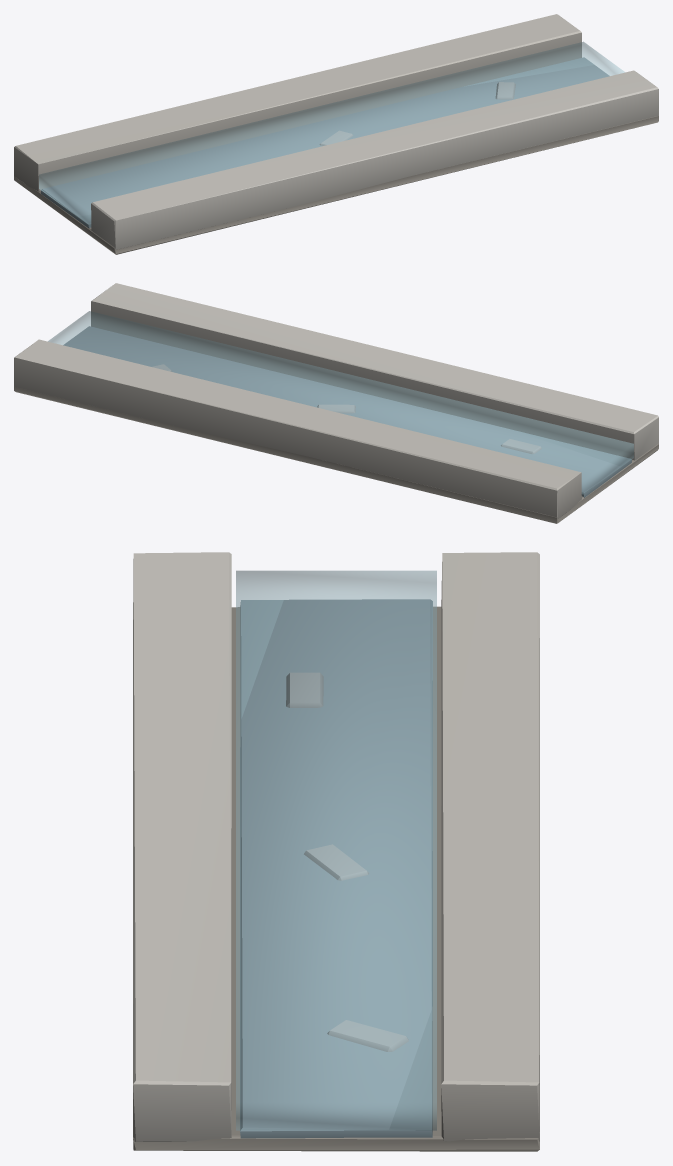
File: plaza_channel_low.glb
The picture shows the model from 3 angles, top to bottom: view 1: azimuth 30°, elevation 25°; view 2: azimuth 150°, elevation 25°; view 3: azimuth 270°, elevation 25°; orthographic projection. The views are drawn at different scales.
Size of the model in its own units: 4 by 0.25 by 1.29.
